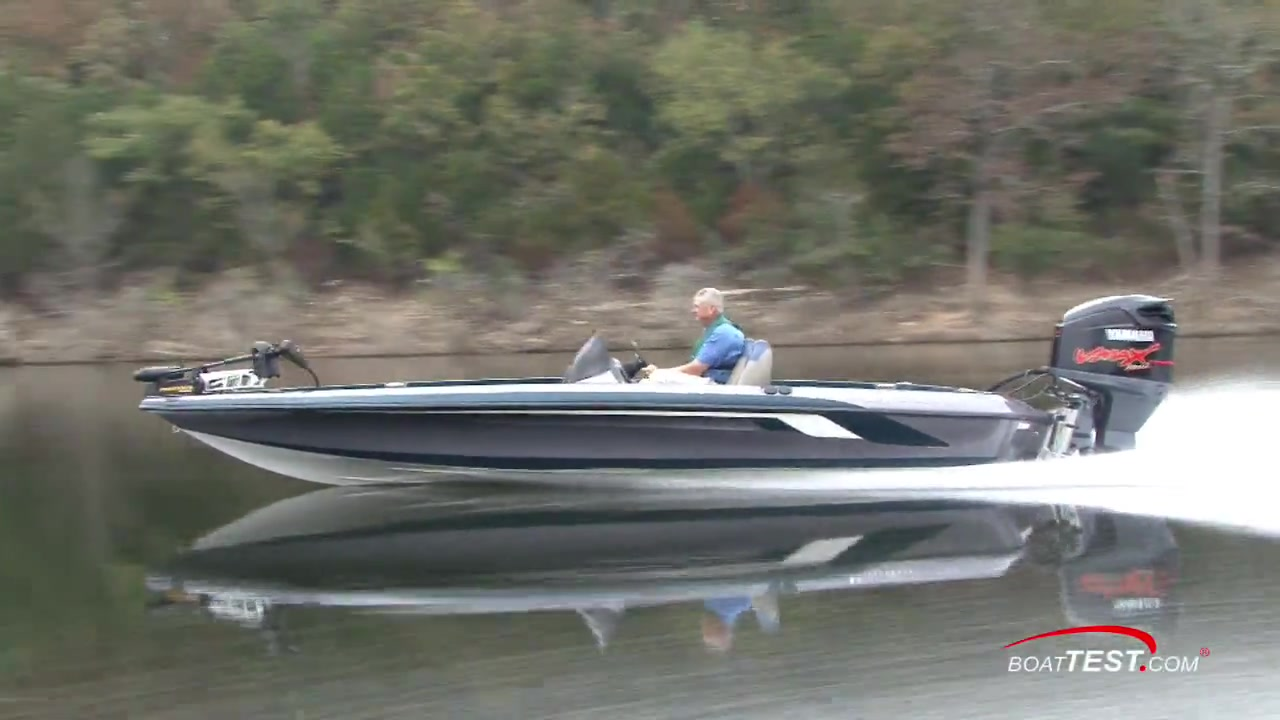boat: (138, 291, 1174, 475)
